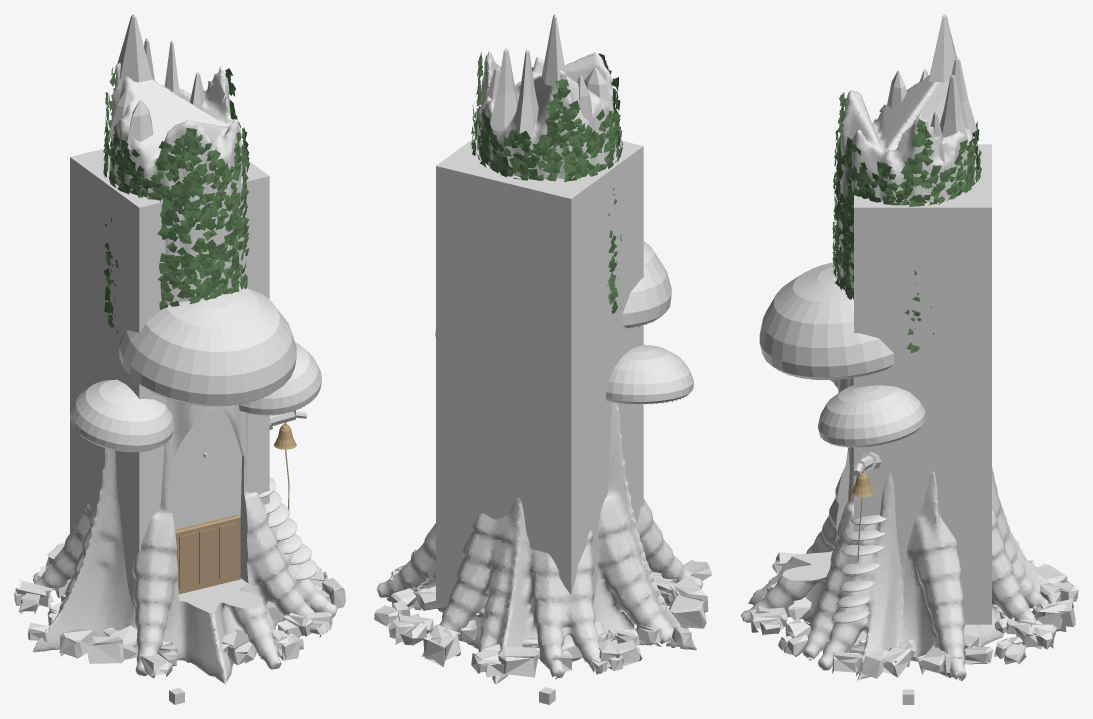
File: TK_boom.fbx
3 views of the same model, side by side, from view 1: azimuth 30°, elevation 25°; view 2: azimuth 150°, elevation 25°; view 3: azimuth 270°, elevation 25° (orthographic). The views are drawn at different scales.
Visible parts, largest first — view 1: COLL_0, static__TEX_zwam_0, static__TEX_schors_0, static__TEX_schors_1, static__MAT_klimop_0, static__TEX_schors_2, static__TEX_rots_0, static__TEX_schors_3, static__MAT_hout_0; view 2: COLL_0, static__TEX_schors_1, static__TEX_schors_0, static__TEX_schors_3, static__TEX_rots_0, static__MAT_klimop_0, static__TEX_schors_2, static__TEX_zwam_0; view 3: COLL_0, static__TEX_schors_3, static__TEX_zwam_0, static__TEX_schors_2, static__TEX_schors_0, static__TEX_rots_0, static__MAT_klimop_0, static__TEX_schors_1.
Part boxes in pixels (x1,y1,x2,y2): COLL_0: [70, 147, 269, 610]; static__TEX_zwam_0: [70, 286, 321, 580]; static__TEX_schors_0: [33, 64, 329, 684]; static__TEX_schors_1: [33, 98, 231, 653]; static__MAT_klimop_0: [103, 67, 249, 333]; static__TEX_schors_2: [109, 62, 337, 669]; static__TEX_rots_0: [14, 543, 345, 677]; static__TEX_schors_3: [108, 14, 307, 613]; static__MAT_hout_0: [175, 514, 240, 594]; COLL_0: [436, 137, 643, 613]; static__TEX_schors_1: [479, 52, 696, 684]; static__TEX_schors_0: [376, 52, 702, 684]; static__TEX_schors_3: [377, 14, 613, 650]; static__TEX_rots_0: [374, 544, 712, 677]; static__MAT_klimop_0: [470, 52, 622, 313]; static__TEX_schors_2: [483, 57, 607, 648]; static__TEX_zwam_0: [435, 241, 693, 403]; COLL_0: [854, 144, 991, 624]; static__TEX_schors_3: [782, 14, 1042, 680]; static__TEX_zwam_0: [759, 262, 925, 623]; static__TEX_schors_2: [741, 75, 1048, 680]; static__TEX_schors_0: [741, 78, 1047, 677]; static__TEX_rots_0: [750, 552, 1078, 678]; static__MAT_klimop_0: [832, 92, 981, 353]; static__TEX_schors_1: [770, 89, 1048, 612].
Bounding box in the file's own units: 5.62 × 12.97 × 5.87.
